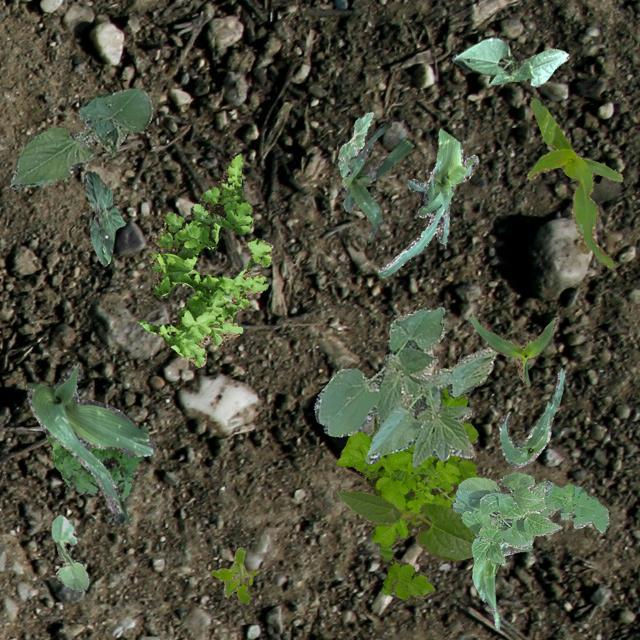crop: (312, 306, 498, 467), (24, 362, 154, 524), (526, 96, 622, 266), (378, 128, 478, 276), (9, 86, 152, 188), (450, 472, 560, 564), (336, 488, 476, 560), (340, 119, 412, 238), (468, 310, 558, 386), (498, 368, 564, 467), (452, 36, 568, 86), (471, 540, 532, 628), (82, 170, 124, 264), (51, 514, 88, 590), (337, 110, 372, 176)
weed: (336, 386, 478, 600), (138, 152, 270, 366), (44, 396, 140, 500), (534, 479, 608, 532), (208, 546, 258, 602)
